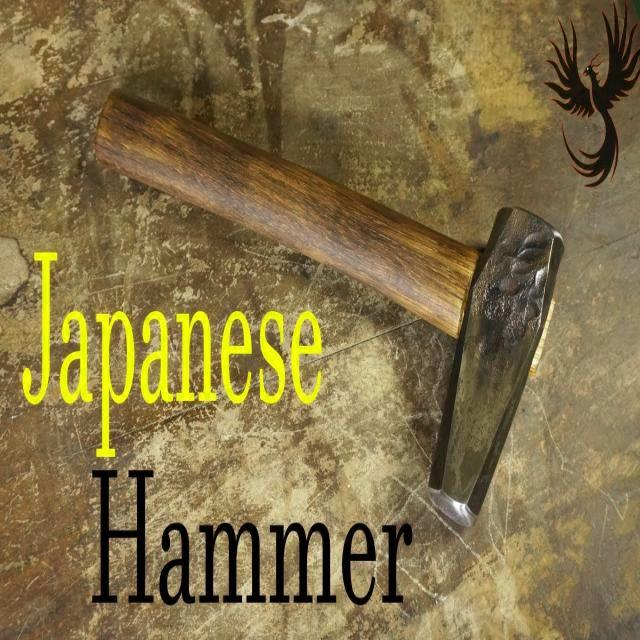hammer: (91, 75, 570, 551)
